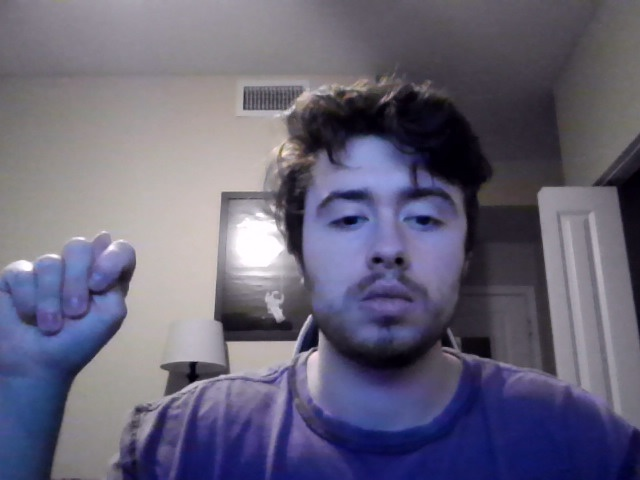t: (1, 230, 137, 401)
